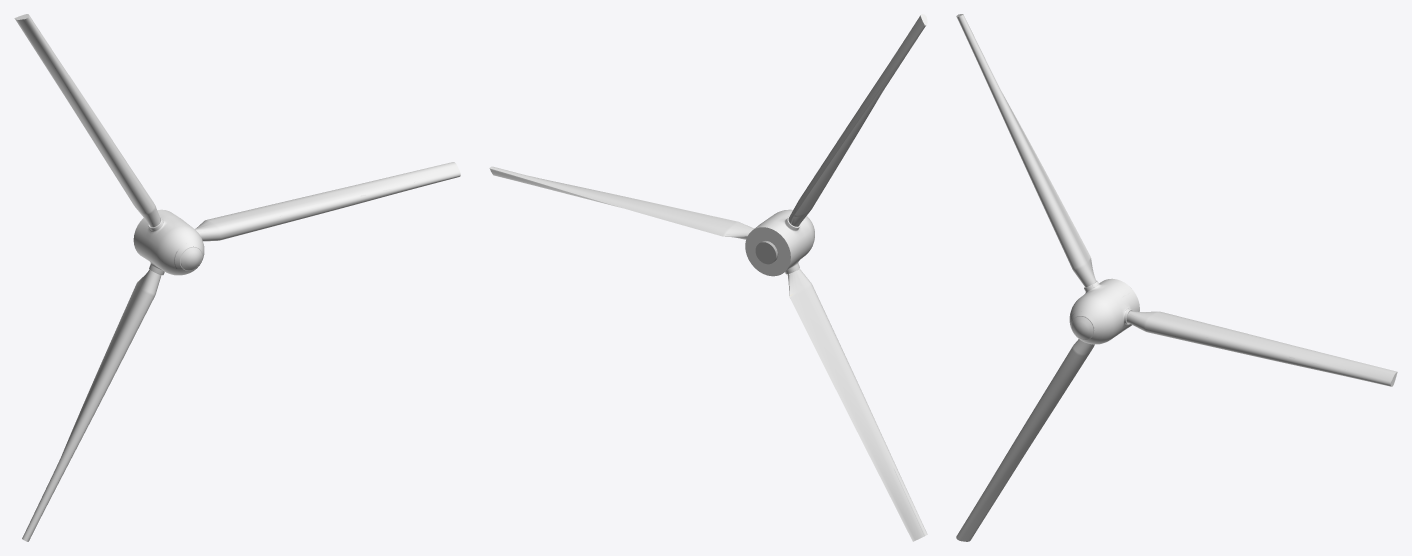
Rendered from Wind mill Fan Rotation (1).fbx.
3 renders of one model, left to right at view 1: azimuth 30°, elevation 25°; view 2: azimuth 150°, elevation 25°; view 3: azimuth 330°, elevation 25°, orthographic.
Visible parts, largest first — view 1: Rotor; view 2: Rotor; view 3: Rotor.
Part boxes in pixels (<box>): Rotor: <box>14,14,460,541</box>; Rotor: <box>489,14,927,541</box>; Rotor: <box>956,14,1397,541</box>.
Bounding box in the file's own units: 290 × 334 × 44.74.
